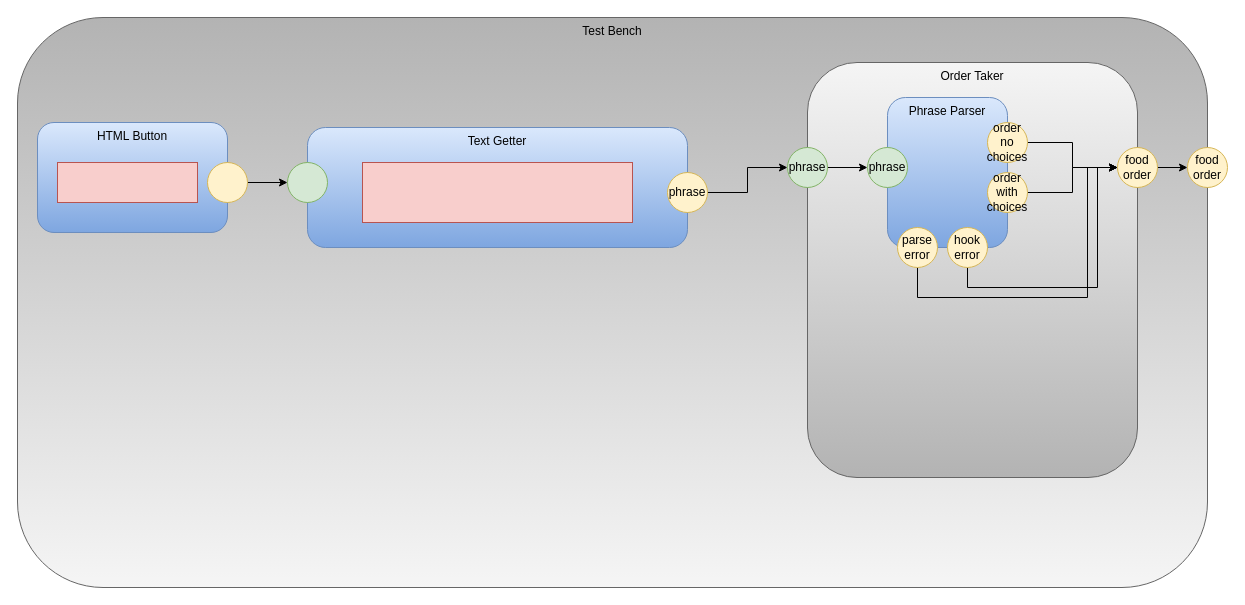
The diagram is 1245 pixels wide and 605 high, and some of its shapes have lost their labels. Here are the shapes that lost their labels. From the top down, the centre of each, then its label:
(x=127, y=182): me.send ("click", true);
(x=227, y=182): click
(x=307, y=182): go
(x=497, y=192): me.send ("phrase", getText ('src'));
